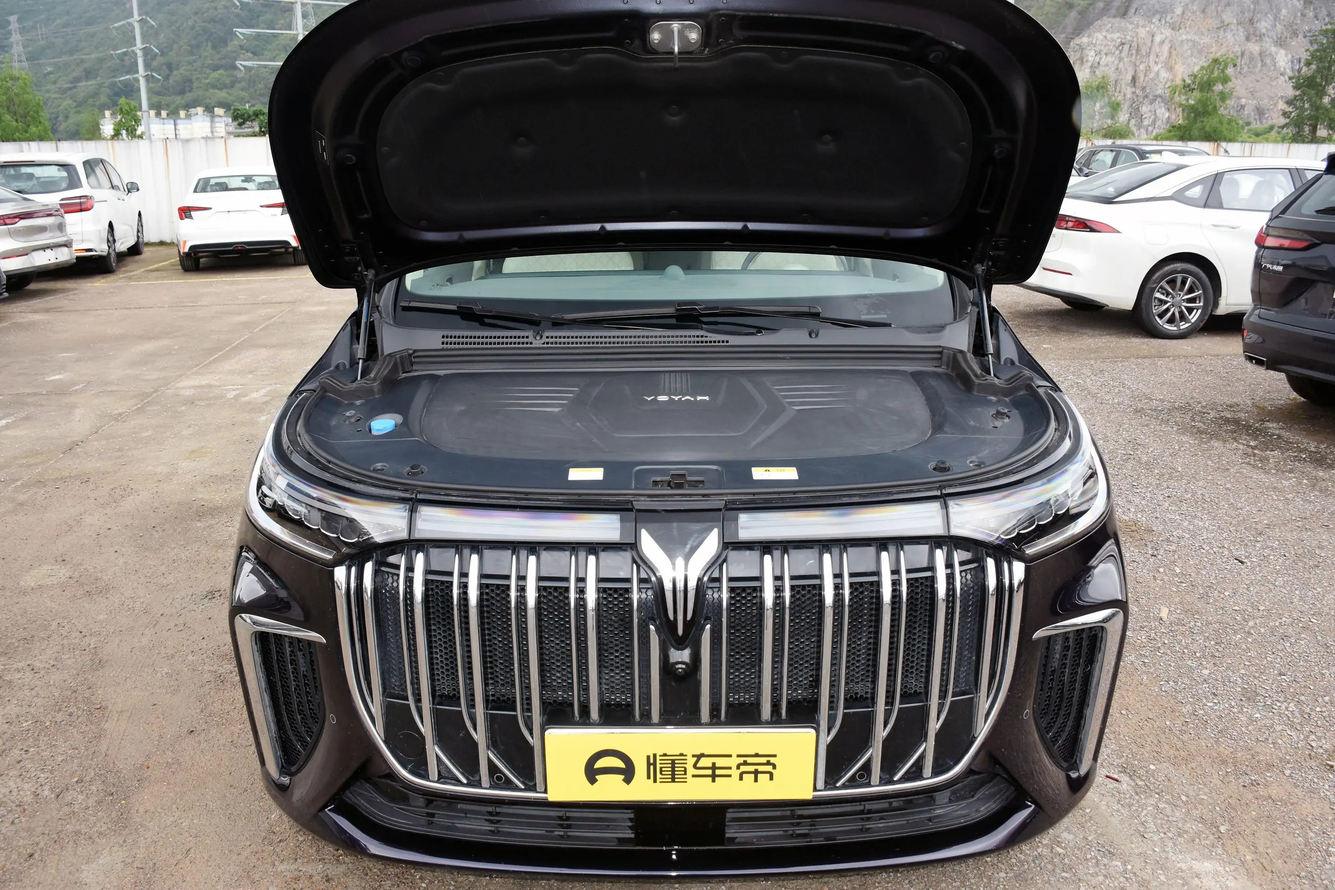VOYAH: (642, 530, 717, 634)
